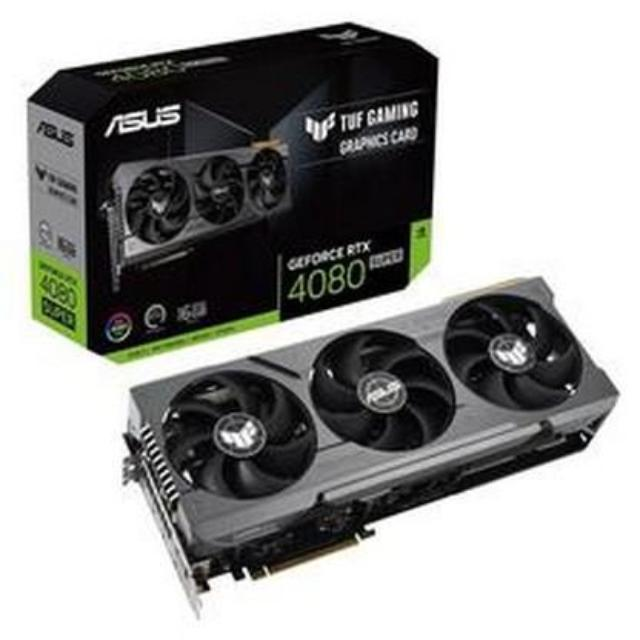GPU: (91, 277, 640, 606)
